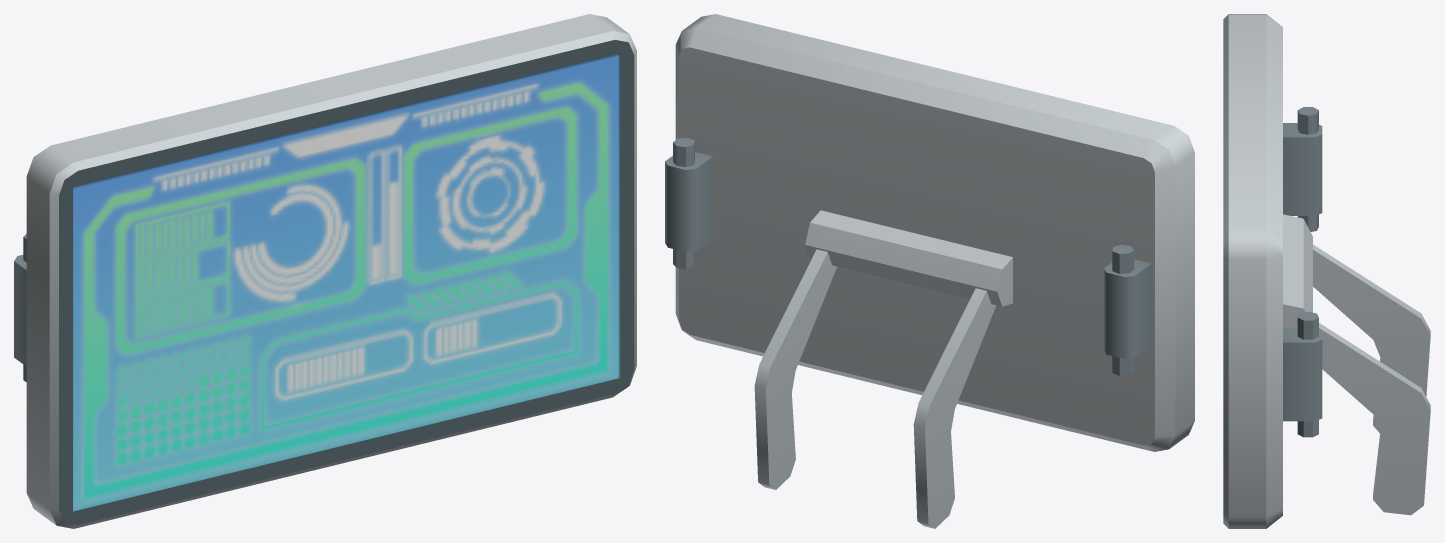
Rendered from Terminal_011_monitor_001.fbx.
The picture shows the model from 3 angles, left to right: view 1: azimuth 30°, elevation 25°; view 2: azimuth 150°, elevation 25°; view 3: azimuth 270°, elevation 25°; orthographic projection. The views are drawn at different scales.
Visible parts, largest first — view 1: Terminal_011_monitor_001; view 2: Terminal_011_monitor_001; view 3: Terminal_011_monitor_001.
Part boxes in pixels (x1,y1,x2,y2): Terminal_011_monitor_001: (14, 14, 636, 528); Terminal_011_monitor_001: (665, 14, 1194, 528); Terminal_011_monitor_001: (1223, 14, 1430, 528).
Size of the model in its own units: 101 by 37.72 by 70.91.
